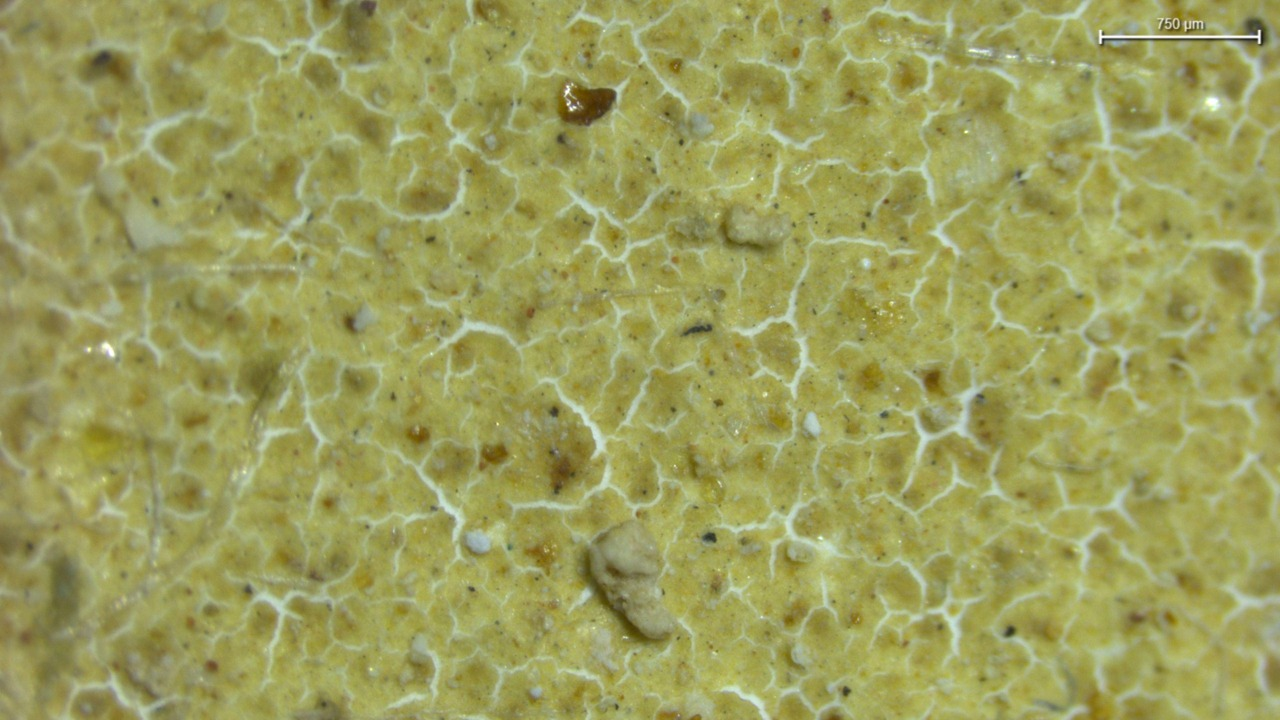microplastic_fragment: (588, 519, 677, 639), (725, 205, 790, 248)
